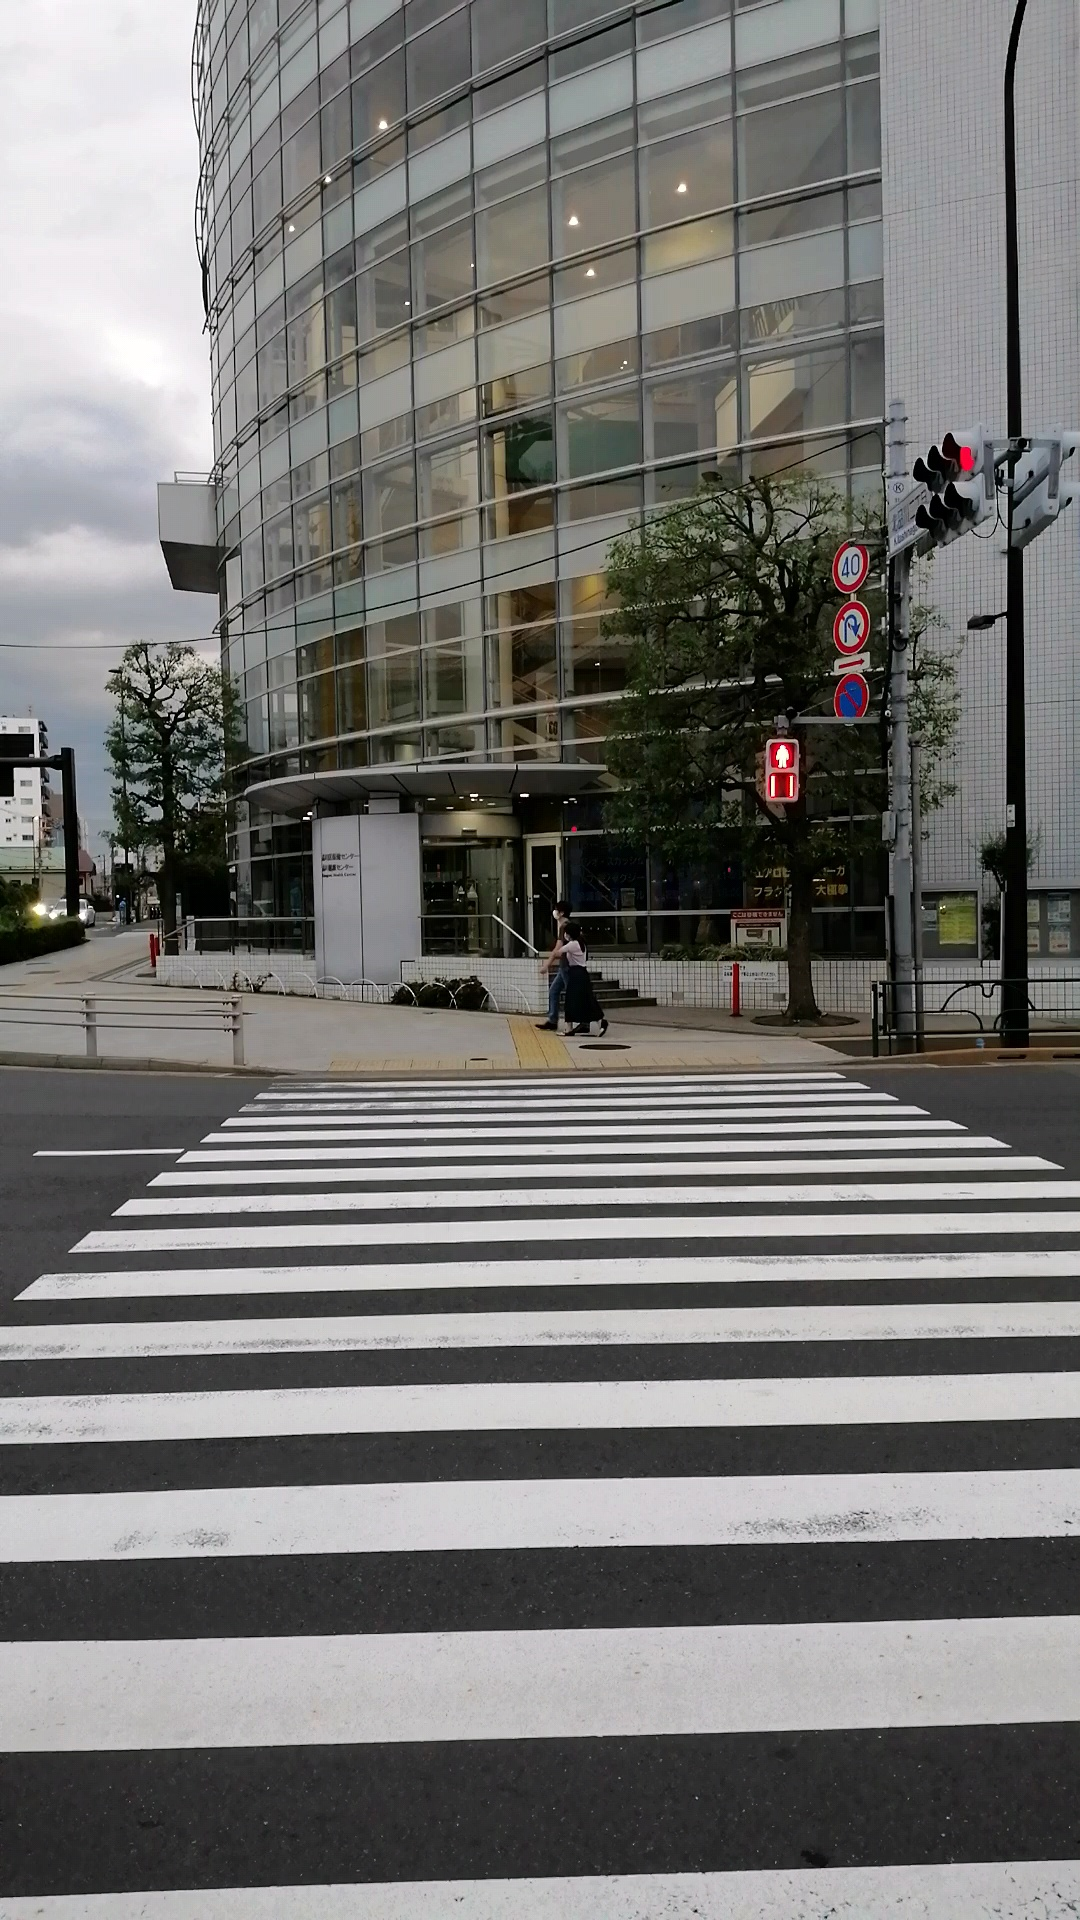red: (765, 737, 798, 802)
